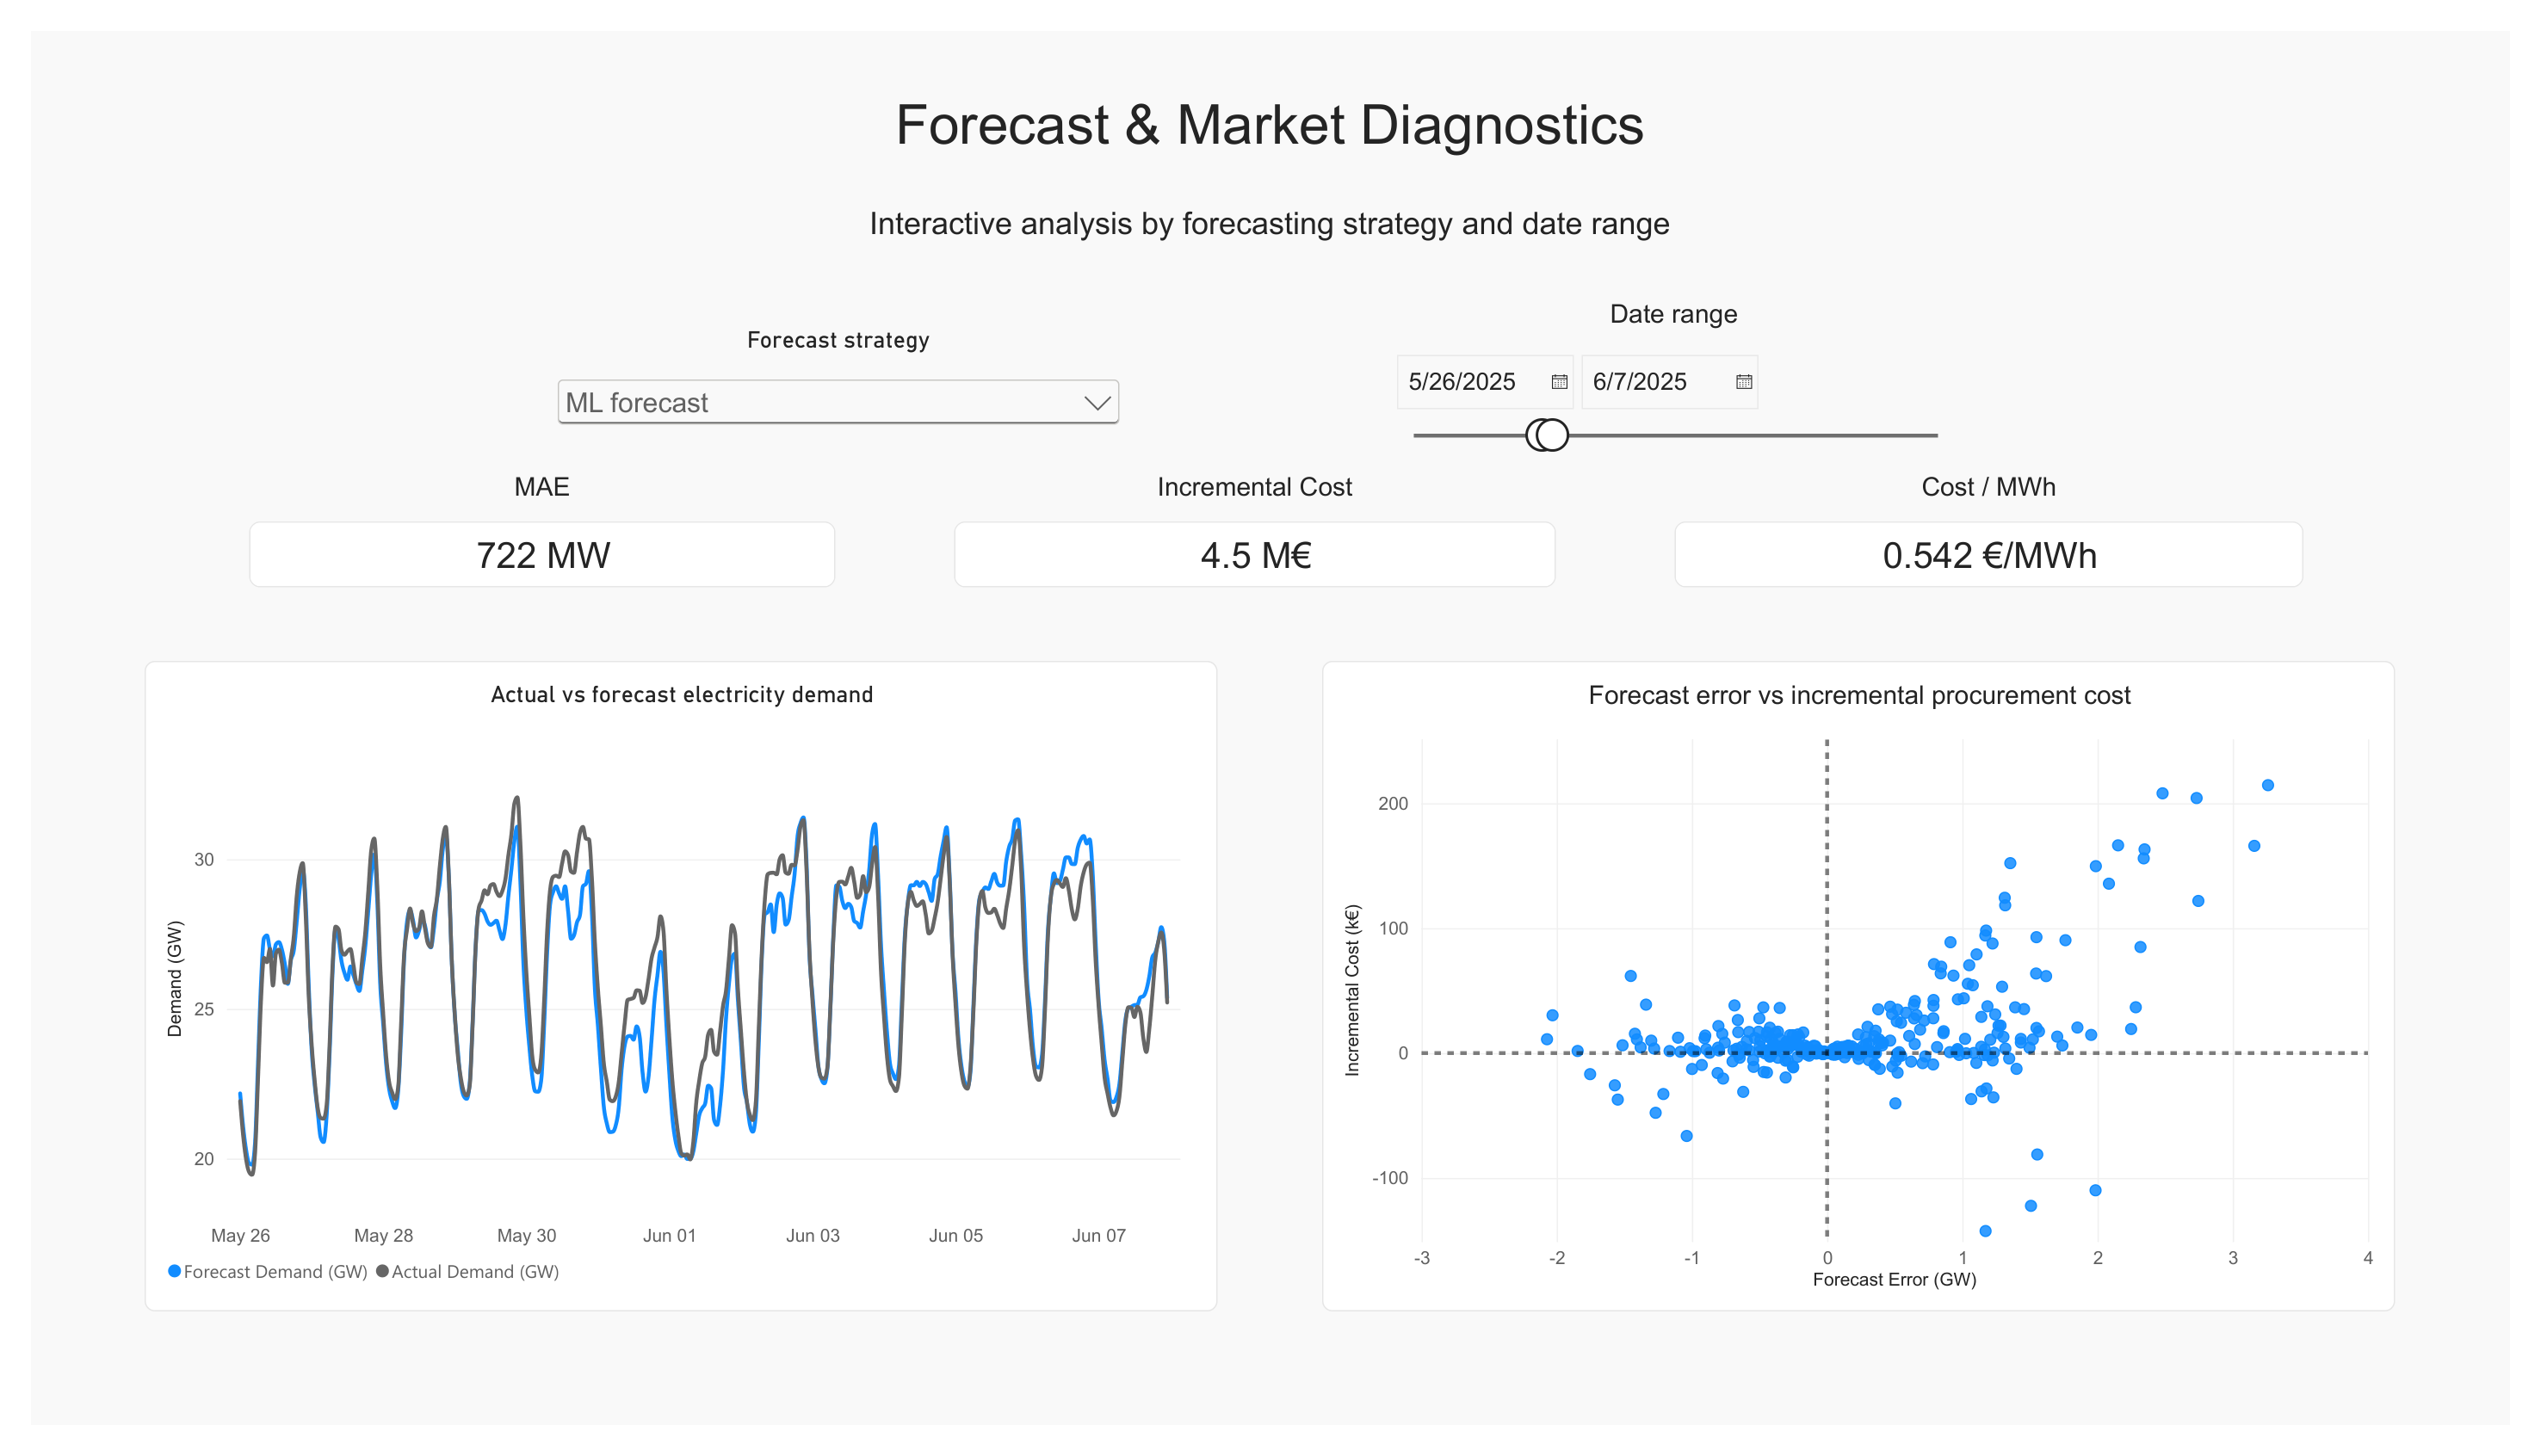

Layout of this report page (visuals, bound fields, positions):
{"tool":"powerbi","page":{"name":"Forecast & Market Diagnostics","canvas":[1920,1080],"ordinal":1},"visuals":[{"type":"lineChart","title":"Actual vs forecast electricity demand","fields":{"Category":["public vw_hourly_operations.timestamp_utc"],"Y":["public vw_hourly_operations.Forecast Demand (GW)","public vw_hourly_operations.Actual Demand (GW)"]},"box":[87.9,487.5,831.2,504.2],"z":0},{"type":"slicer","title":"Forecast strategy","fields":{"Values":["public vw_hourly_operations.strategy_label"]},"box":[402.5,227.5,445,82],"z":1000},{"type":"slicer","title":"Date range","fields":{"Values":["public vw_hourly_operations.timestamp_utc"]},"box":[1050,207.5,445,126],"z":2000},{"type":"scatterChart","title":"Forecast error vs incremental procurement cost","fields":{"Category":["public vw_hourly_operations.timestamp_utc"],"X":["public vw_hourly_operations.Forecast Error (GW)"],"Y":["public vw_hourly_operations.Incremental Cost (k€)"]},"box":[1000,487.5,831,504.2],"z":3000},{"type":"cardVisual","title":"MAE ","fields":{"Data":["public vw_hourly_operations.Selected MAE (MW)"]},"box":[168.8,341.7,454.2,89.6],"z":4000},{"type":"cardVisual","title":"Incremental Cost","fields":{"Data":["public vw_hourly_operations.Selected Incremental Cost (M€)"]},"box":[714.6,341.7,466.7,89.6],"z":5000},{"type":"cardVisual","title":"Cost / MWh","fields":{"Data":["public vw_hourly_operations.Selected Cost (€/MWh)"]},"box":[1272.9,341.7,487.5,89.6],"z":6000},{"type":"textbox","box":[381.2,47.9,1156.2,160.4],"z":7000}]}

Visuals, with their boxes in screenshot pixels (x1, y1, x2, y2), scaled from the page's 1920x1080 canvas onto the 2541x1456 screenshot:
"Actual vs forecast electricity demand" lineChart: box(116, 657, 1216, 1337)
"Forecast strategy" slicer: box(533, 306, 1122, 417)
"Date range" slicer: box(1389, 280, 1979, 449)
"Forecast error vs incremental procurement cost" scatterChart: box(1324, 657, 2423, 1337)
"MAE " cardVisual: box(224, 460, 825, 582)
"Incremental Cost" cardVisual: box(946, 460, 1563, 582)
"Cost / MWh" cardVisual: box(1685, 460, 2330, 582)
textbox: box(504, 65, 2035, 281)
